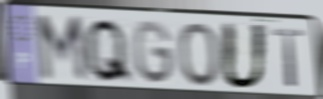G: (130, 18, 176, 87)
M: (34, 13, 90, 85)
O: (176, 21, 222, 89)
Q: (82, 17, 135, 86)
T: (271, 27, 307, 90)
U: (220, 20, 269, 92)
